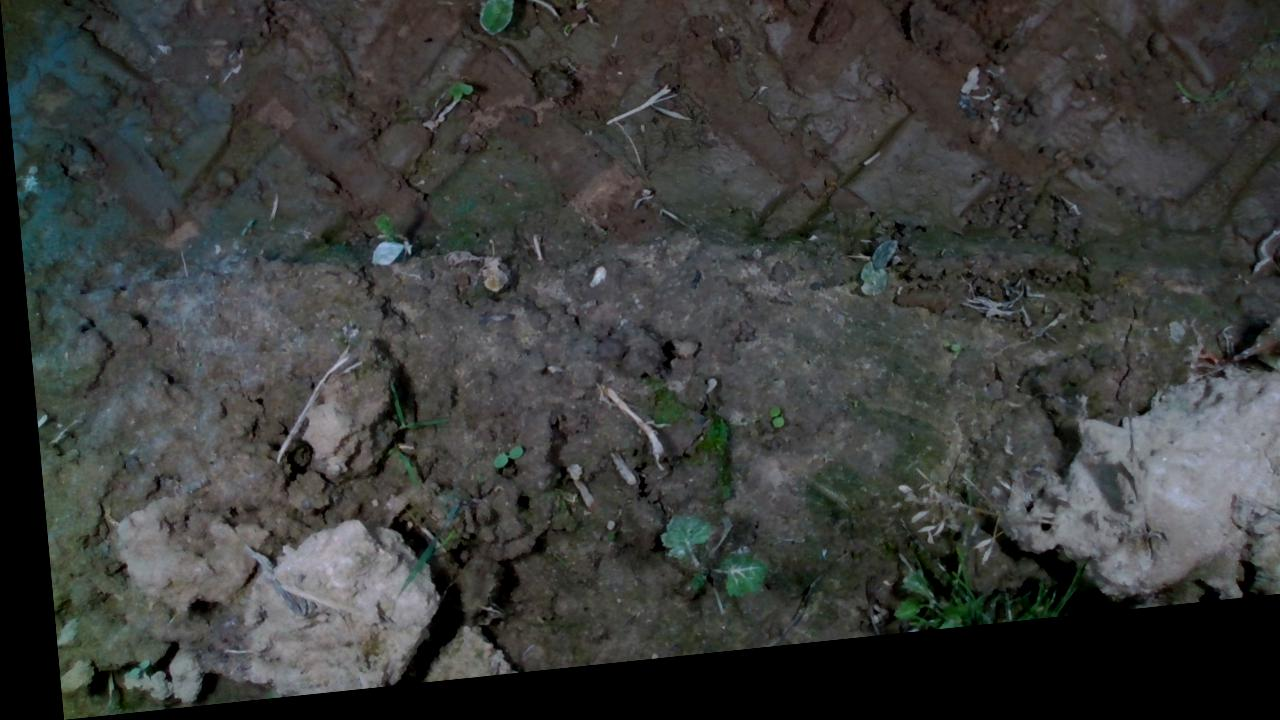weed: (757, 417, 775, 446)
